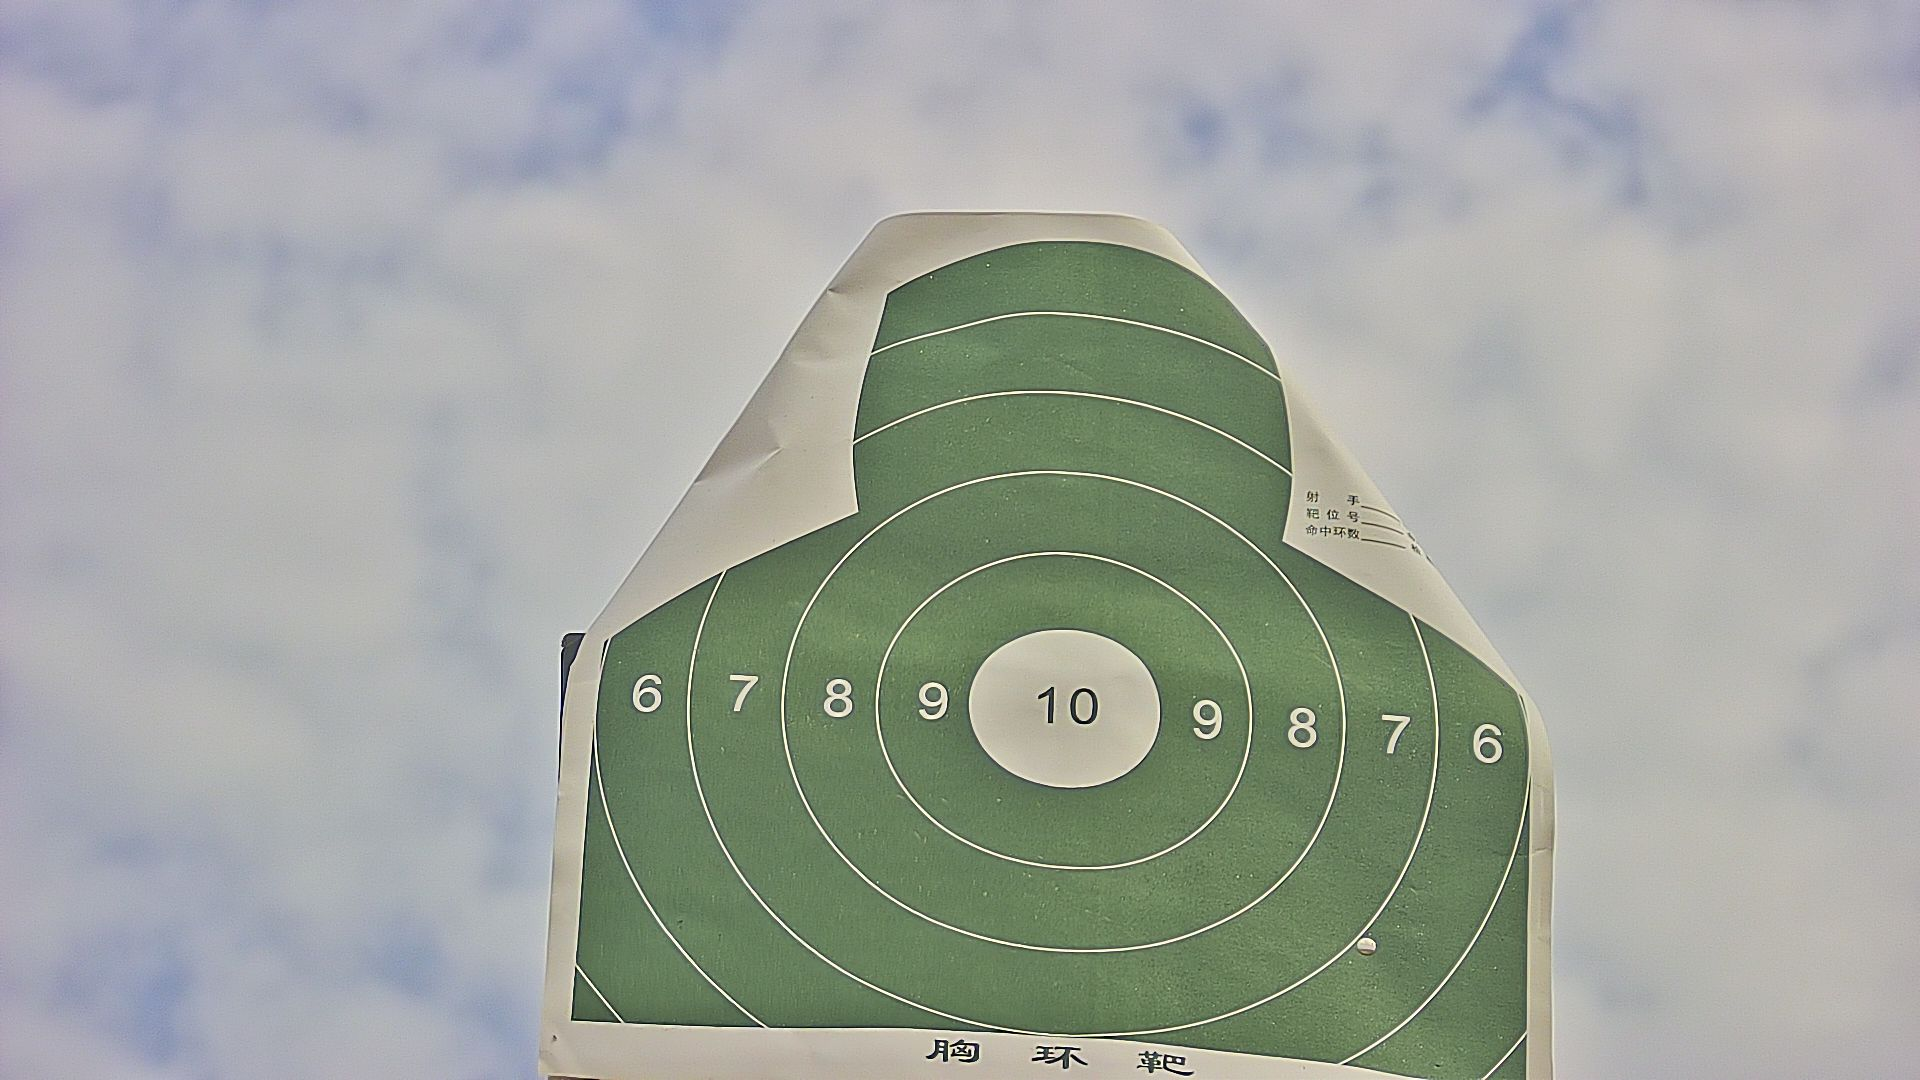kernel: (1059, 705, 1064, 708)
target: (568, 243, 1534, 1080)
ten: (967, 624, 1166, 789)
